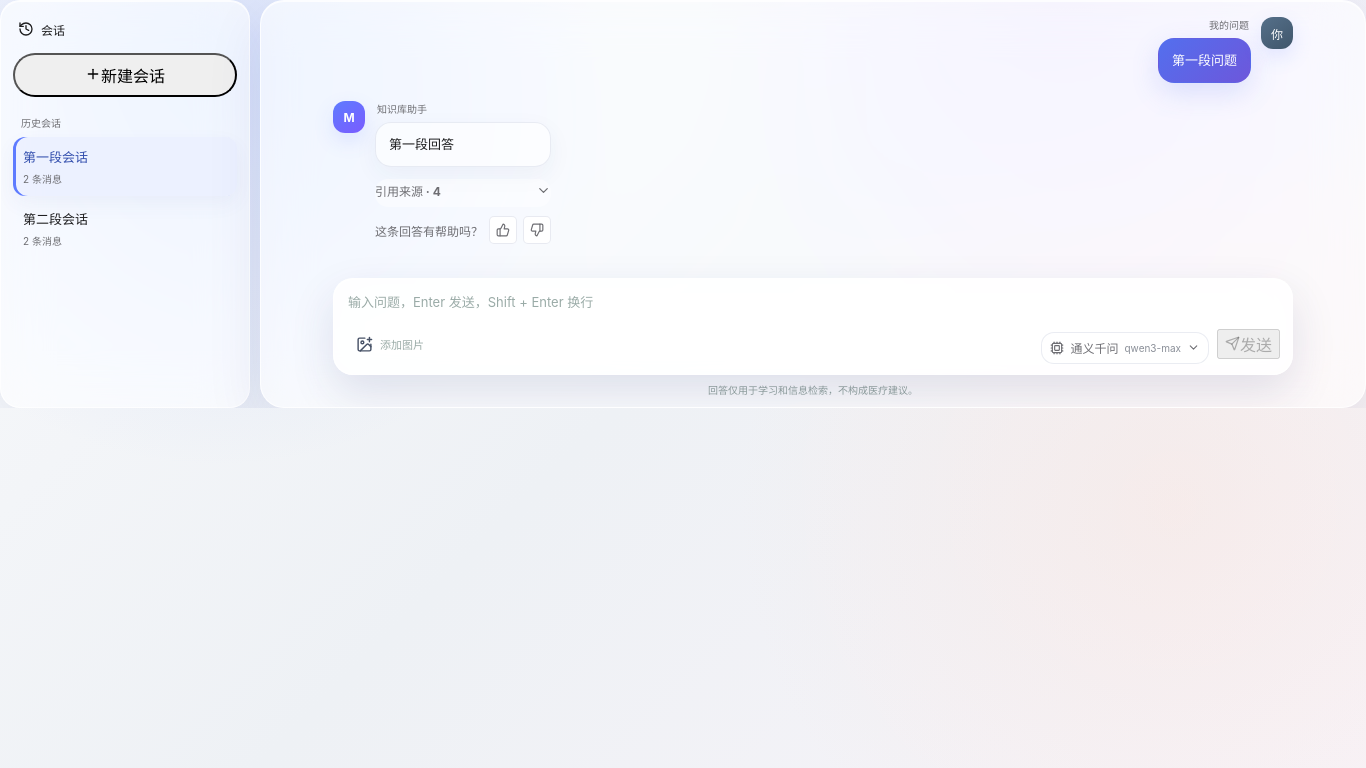
Test: ChatView 会话交互 › 引用来源默认整组收起，并可点击展开和再次收起
The image size is (1366, 768).
Check: the text "来源一.txt" is not shown
Click the button with test id "sources-toggle". click: (463,193)
box: [375, 179, 551, 207]
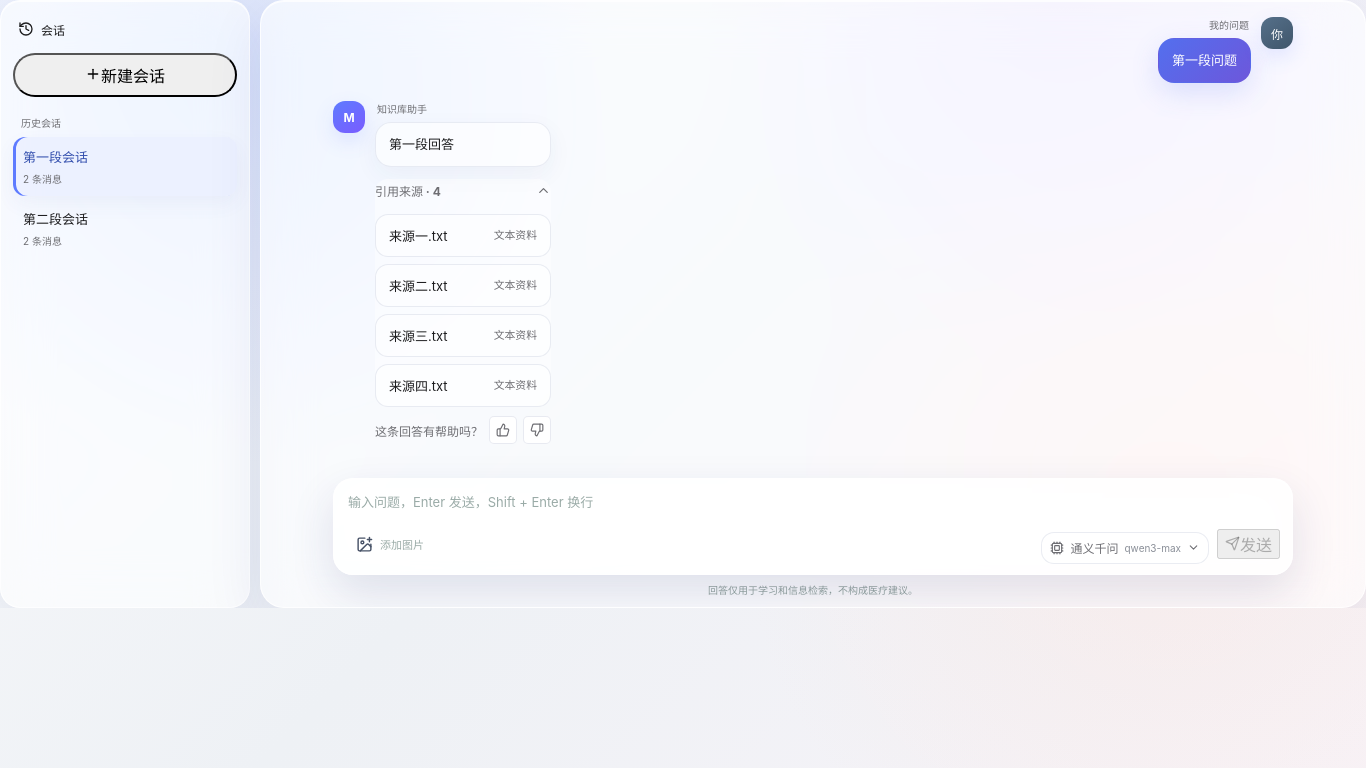
Check: the button with test id "sources-toggle" is expanded
Check: the text "来源一.txt" is shown, box [389, 226, 448, 245]
Check: the text "来源四.txt" is shown, box [389, 376, 448, 395]
Click the button with test id "sources-toggle". click: (463,193)
box: [375, 179, 551, 207]
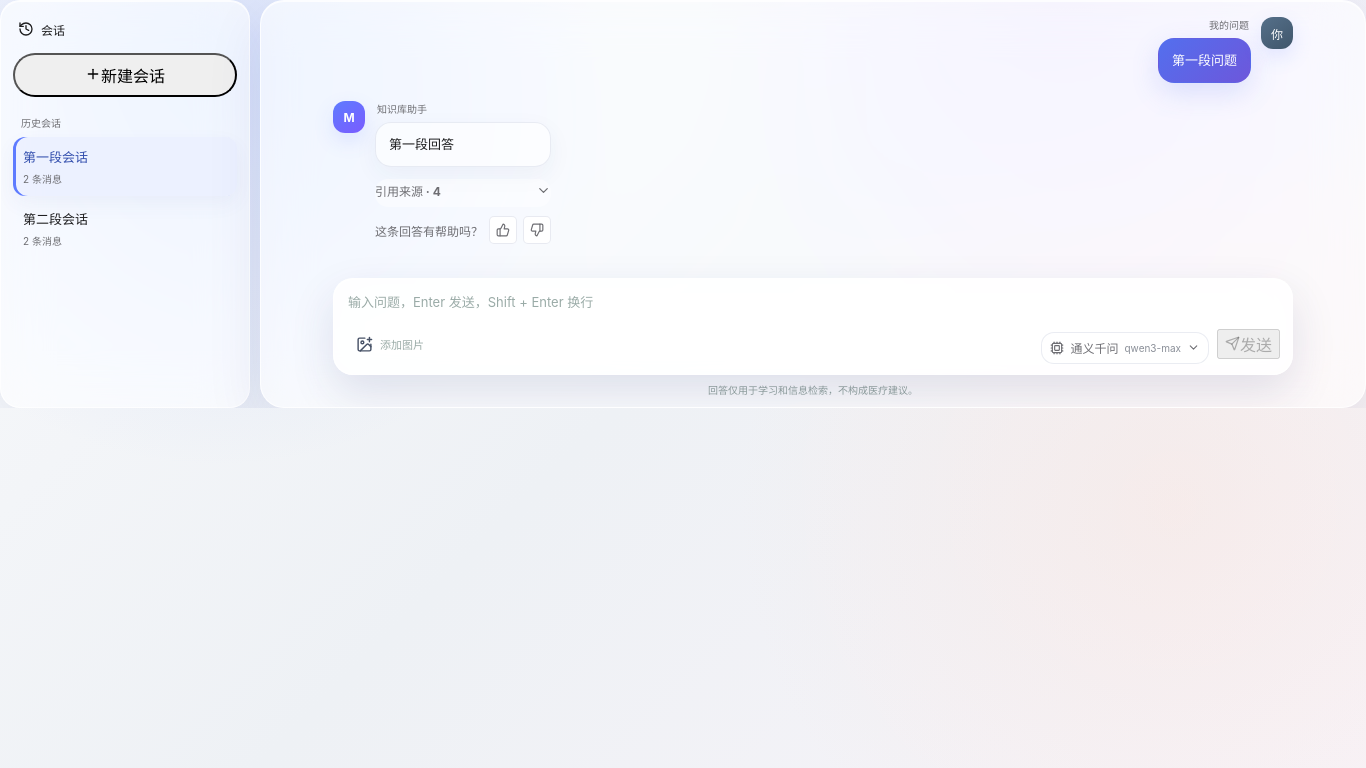
Check: the button with test id "sources-toggle" is collapsed, box [375, 179, 551, 207]
Check: the text "来源一.txt" is gone
